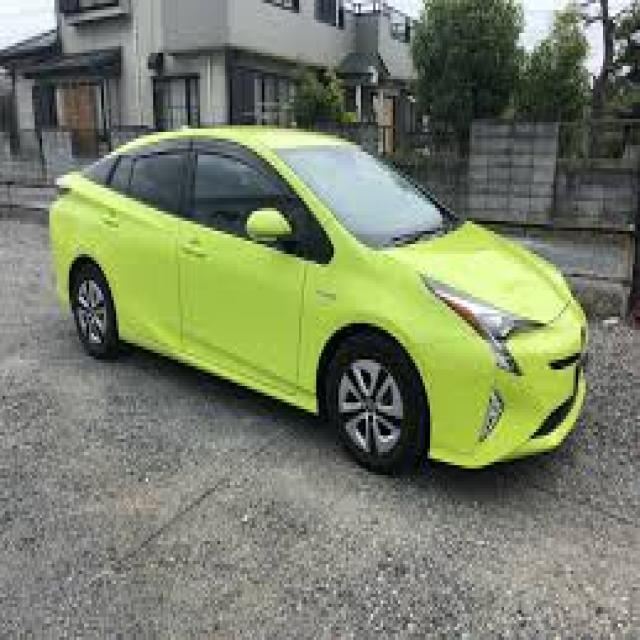green: (45, 99, 595, 485)
